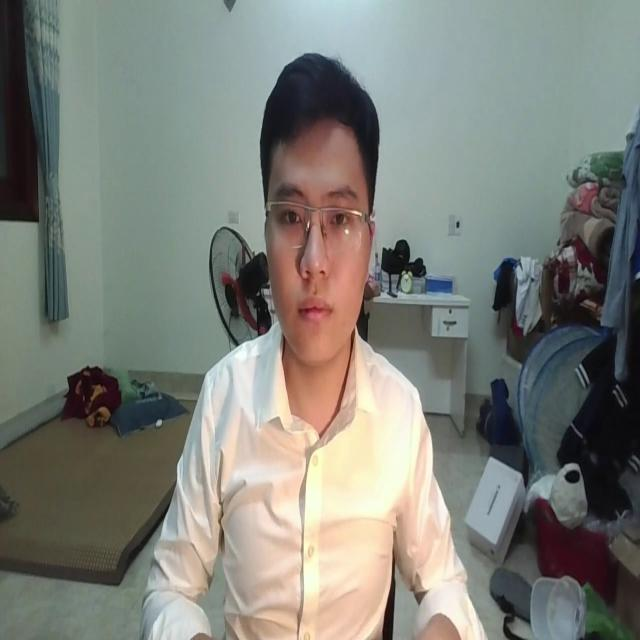student: (139, 46, 485, 640)
